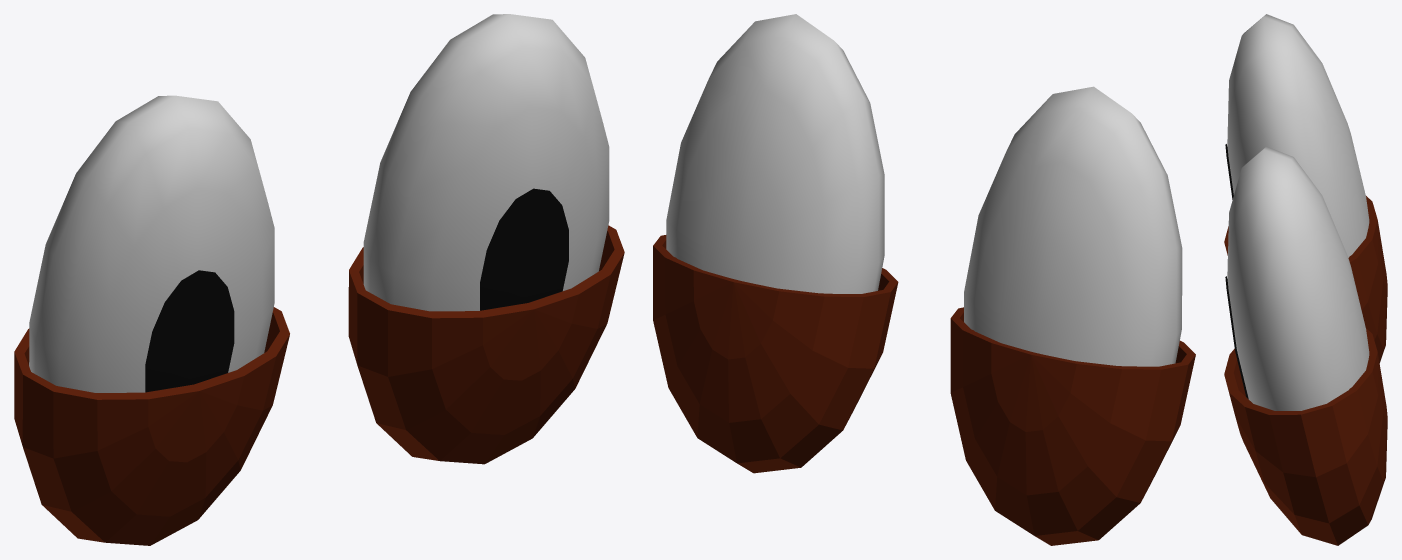
Rendered from item-eyes-both.obj.
The picture shows the model from 3 angles, left to right: view 1: azimuth 30°, elevation 25°; view 2: azimuth 150°, elevation 25°; view 3: azimuth 270°, elevation 25°; orthographic projection. The views are drawn at different scales.
Visible parts, largest first — view 1: eyelid; view 2: eyelid; view 3: eyelid.
Boxes of the visible parts, x1,y1,x2,y2 form: eyelid: (14, 14, 624, 545); eyelid: (653, 14, 1195, 545); eyelid: (1224, 14, 1387, 545).
Size of the model in its own units: 0.7112 by 0.5513 by 0.2095.
